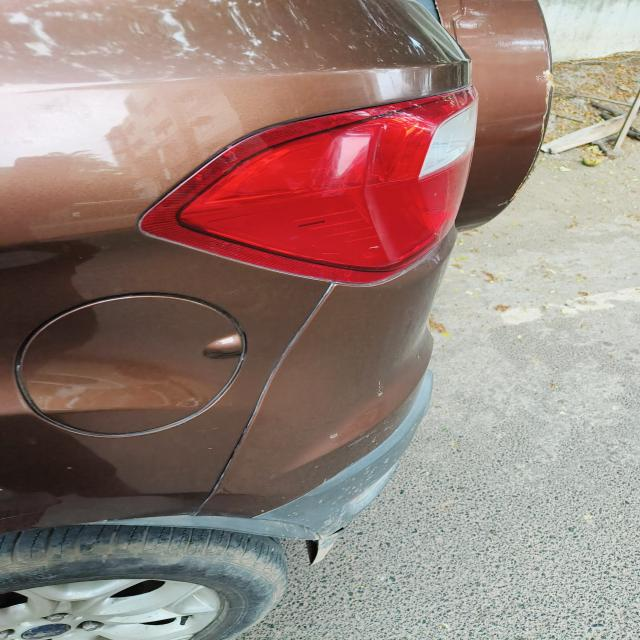scratch: (349, 426, 392, 449), (369, 378, 391, 397), (327, 432, 342, 443)
